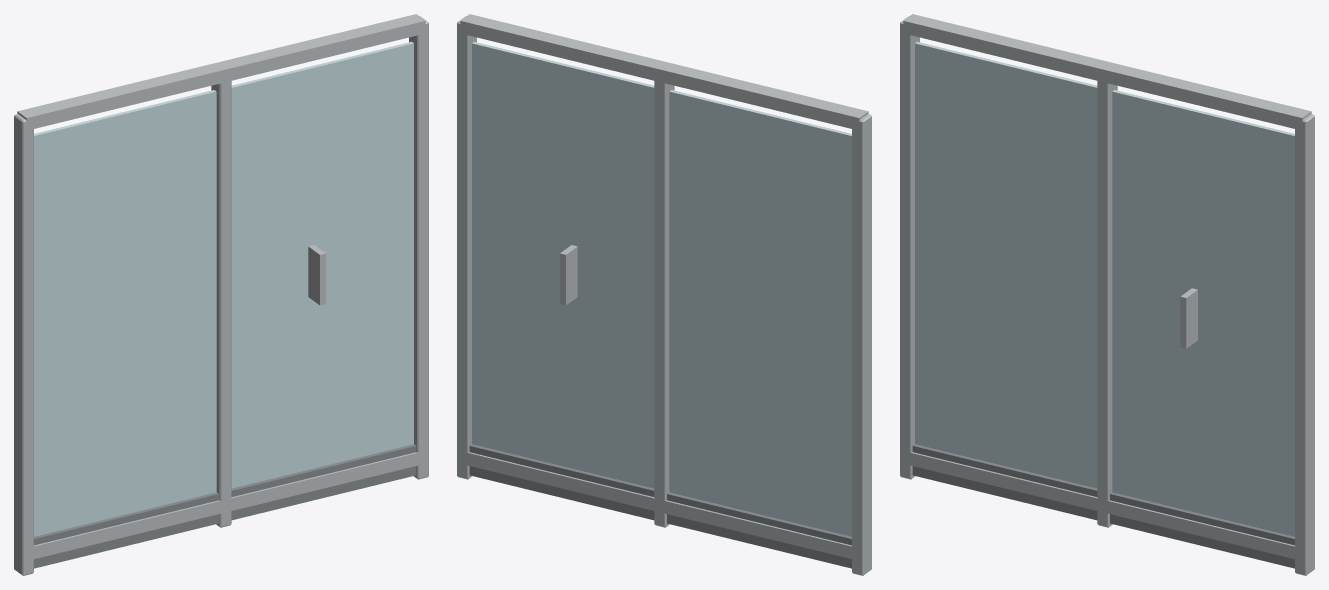
Rendered from P_glass_partition.fbx.
3 views of the same model, side by side, from view 1: azimuth 30°, elevation 25°; view 2: azimuth 150°, elevation 25°; view 3: azimuth 330°, elevation 25° (orthographic).
Visible parts, largest first — view 1: P_glass_partition; view 2: P_glass_partition; view 3: P_glass_partition.
Boxes of the visible parts, left/top/right/bottom form: P_glass_partition: left=14, top=14, right=428, bottom=575; P_glass_partition: left=457, top=14, right=871, bottom=575; P_glass_partition: left=900, top=14, right=1314, bottom=575.
Bounding box in the file's own units: 2.02 × 2.17 × 0.22.
